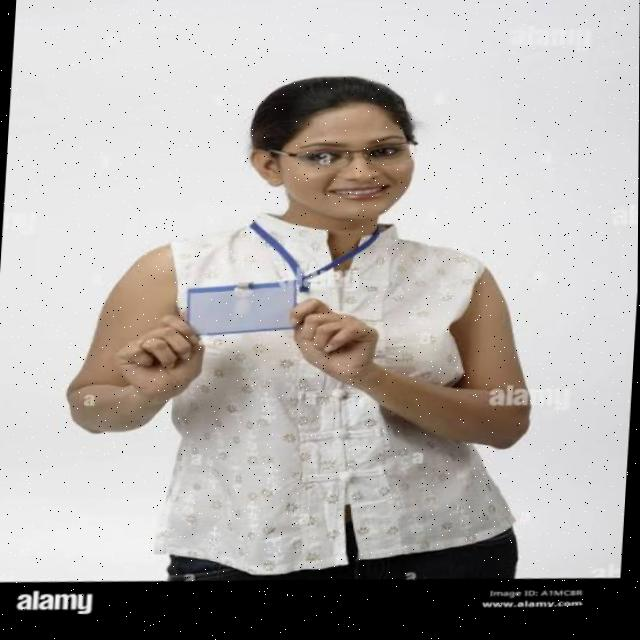id_card: (172, 205, 401, 362)
